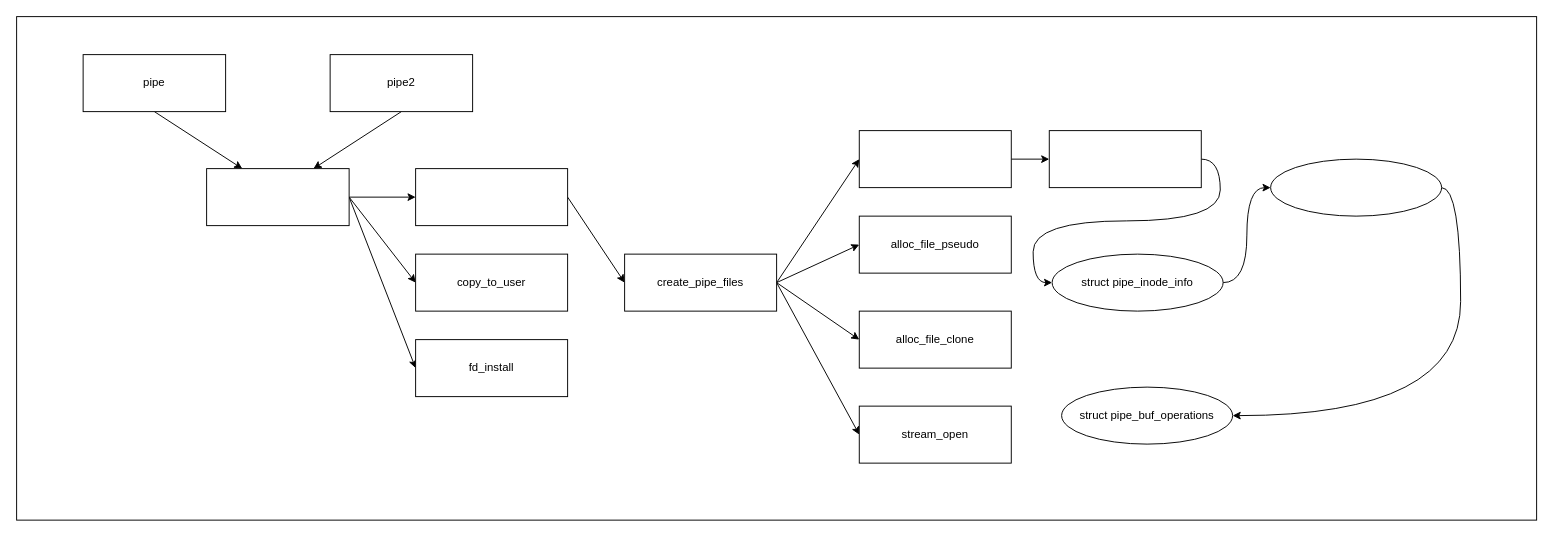
This 1553x537 diagram has some shape labels left out. Each missing label, with the centre of its shape:
"__do_pipe_flags" goes at pixel 491 197.
"alloc_pipe_info" goes at pixel 1124 159.
"do_pipe2" goes at pixel 277 197.
"get_pipe_inode" goes at pixel 934 159.
"struct pipe_buffer" goes at pixel 1356 187.
